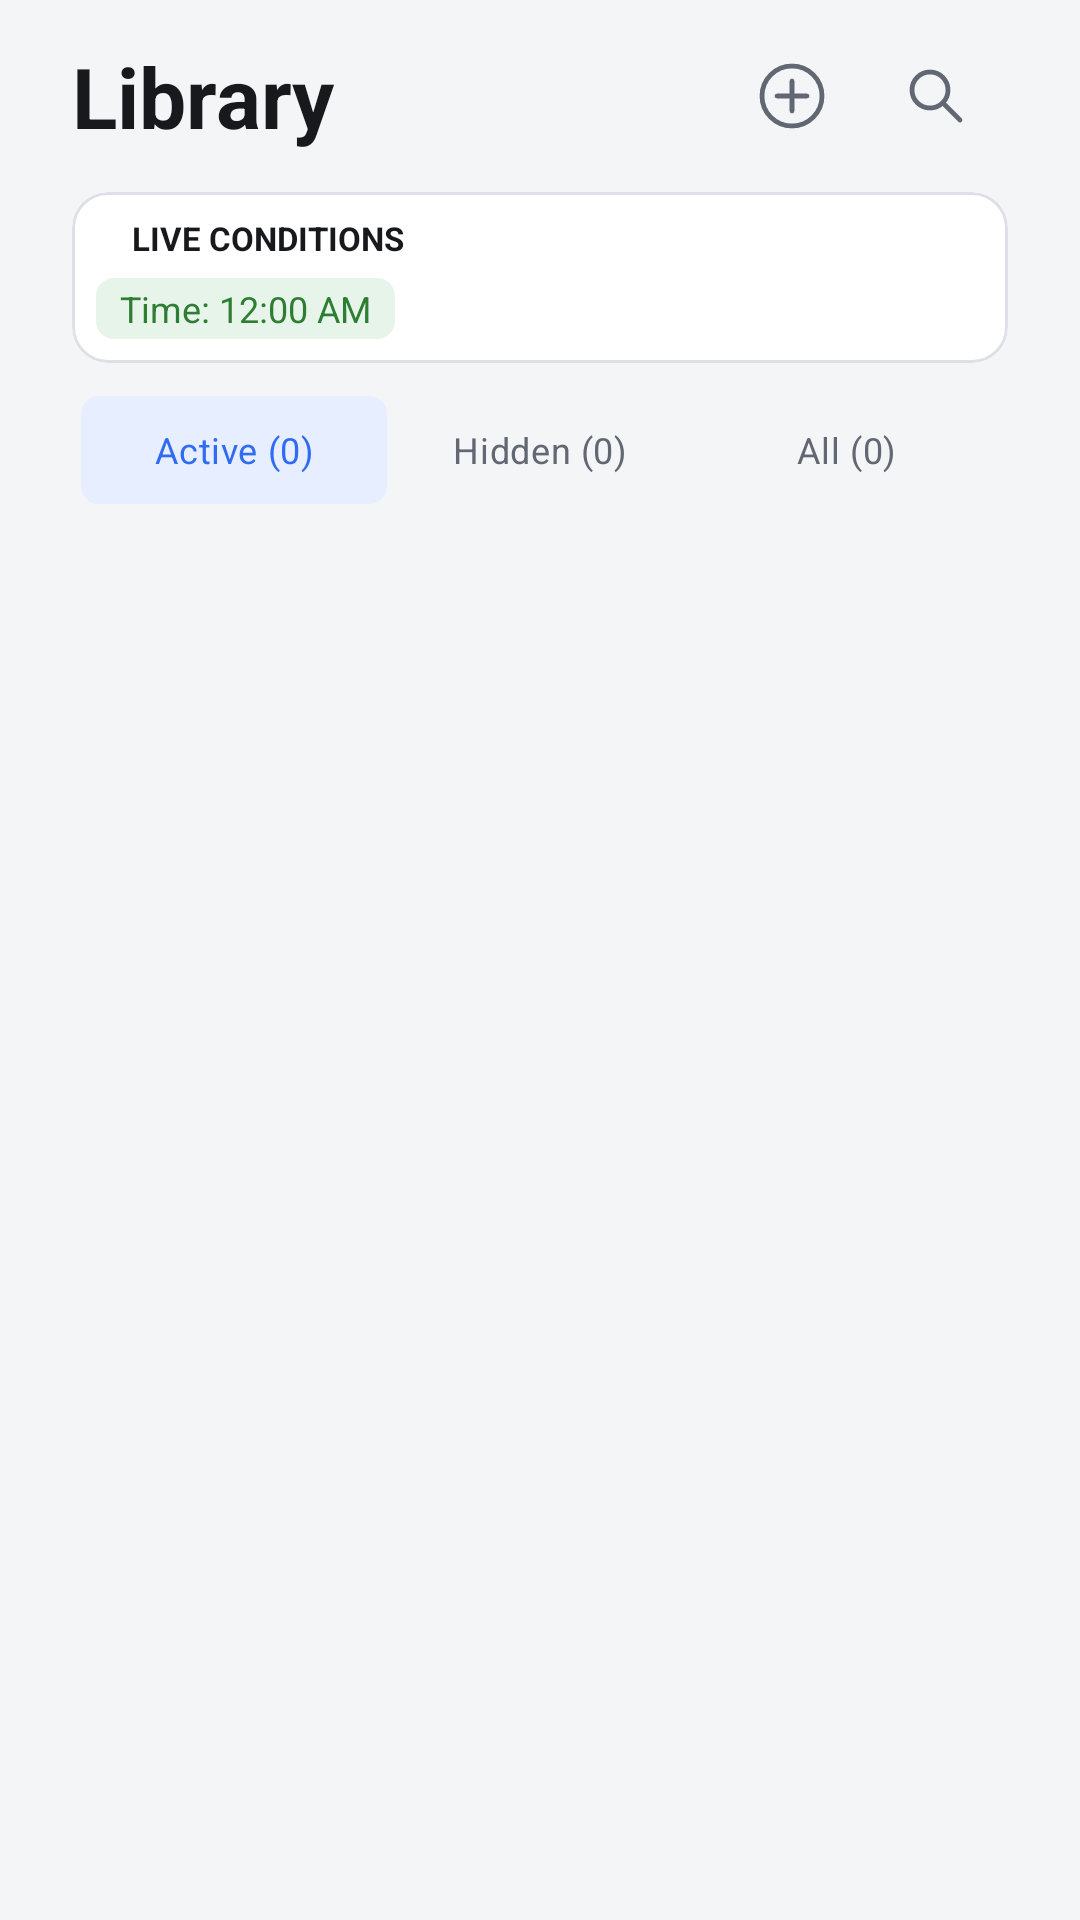

Screen size 1080 x 1920. Icon name, then its center in pixels as (x,y):
Search: (936,96)
